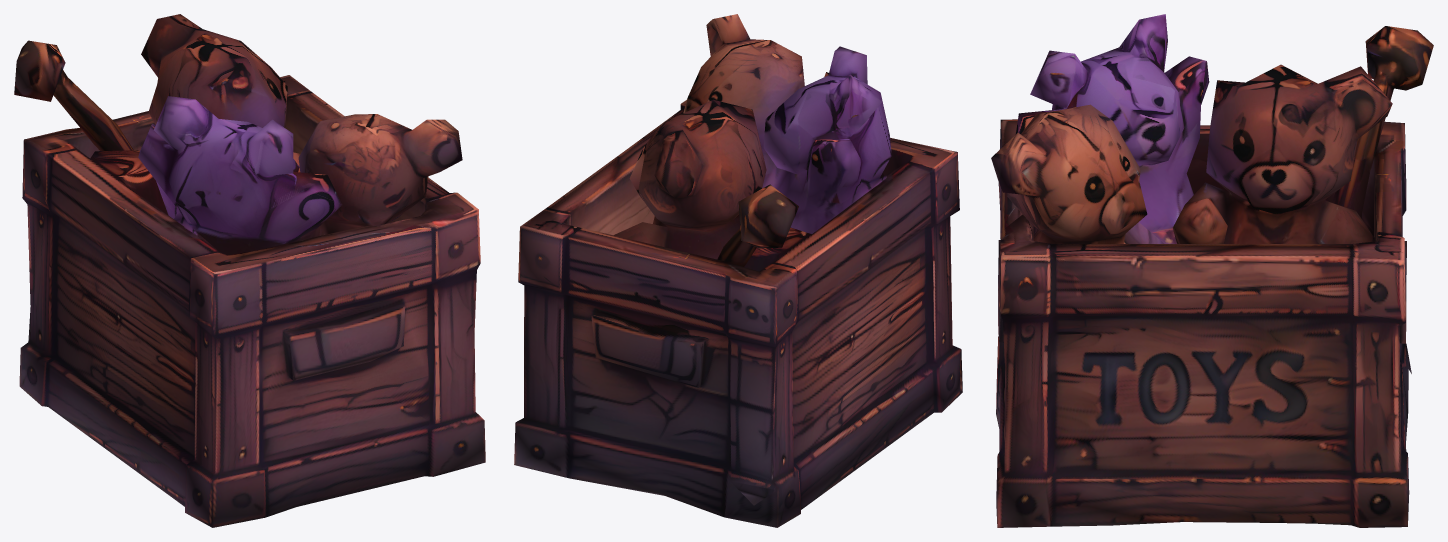
The model's file is toys+crate+3d+model.obj.
3 views of the same model, side by side, from view 1: azimuth 30°, elevation 25°; view 2: azimuth 150°, elevation 25°; view 3: azimuth 270°, elevation 25° (orthographic). The views are drawn at different scales.
Parts seen in each view (by area): view 1: tripo_node_b6e84c73-45ea-4ebd-80e1-e2e64890c2a5; view 2: tripo_node_b6e84c73-45ea-4ebd-80e1-e2e64890c2a5; view 3: tripo_node_b6e84c73-45ea-4ebd-80e1-e2e64890c2a5.
Boxes of the visible parts, x1,y1,x2,y2 form: tripo_node_b6e84c73-45ea-4ebd-80e1-e2e64890c2a5: (14, 14, 485, 527); tripo_node_b6e84c73-45ea-4ebd-80e1-e2e64890c2a5: (514, 14, 962, 527); tripo_node_b6e84c73-45ea-4ebd-80e1-e2e64890c2a5: (991, 14, 1433, 527).
Bounding box in the file's own units: 0.7893 × 0.9957 × 1.
1 material, 1 textured.
